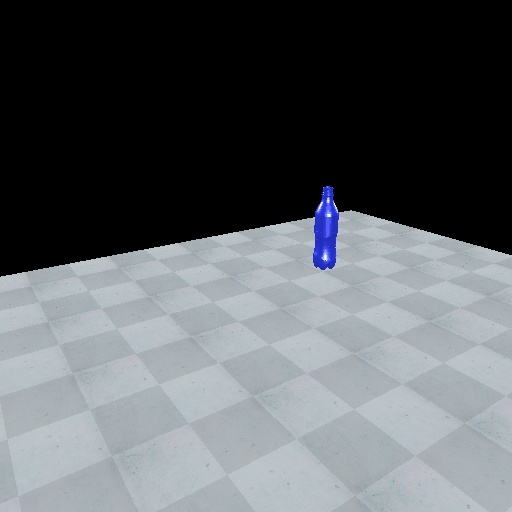bottle: (312, 185, 340, 272)
